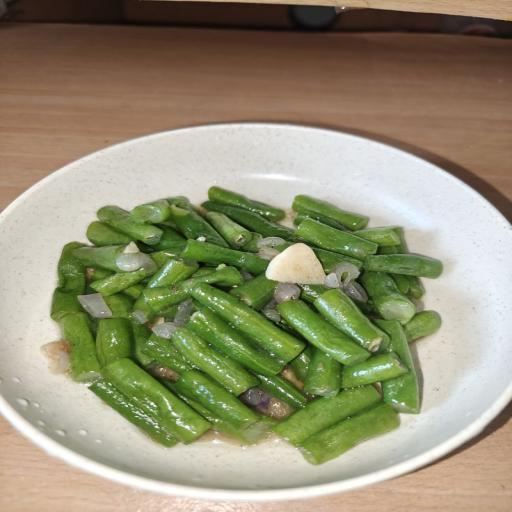buncis_rebus: (26, 176, 498, 474)
